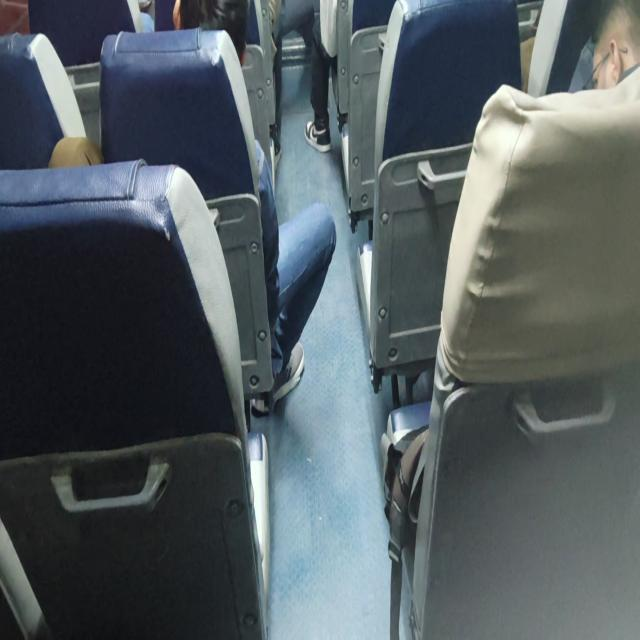person: (394, 1, 639, 636), (171, 1, 337, 407), (568, 0, 640, 94), (304, 0, 348, 153), (172, 0, 248, 68)
